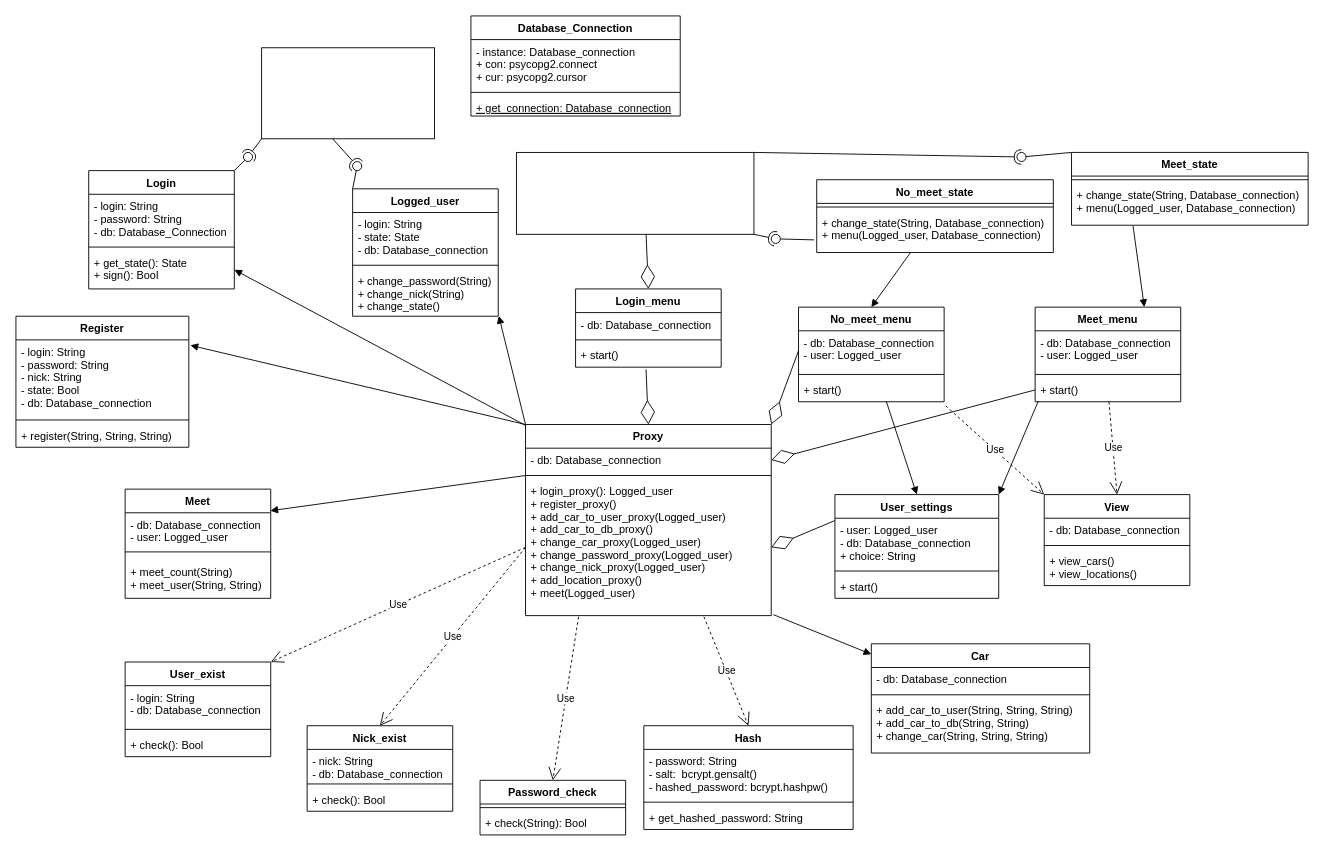
Image size: 1324x854. Some labels were removed from this diagram. The shapes that lost their labels are listed below. From the top down, each one's centre as x and y in pixels, then its label:
[348,93]: <<Interface>> User + get_state() : State
[635,193]: <<Interface>> State + change_state(str, Database_connection)
